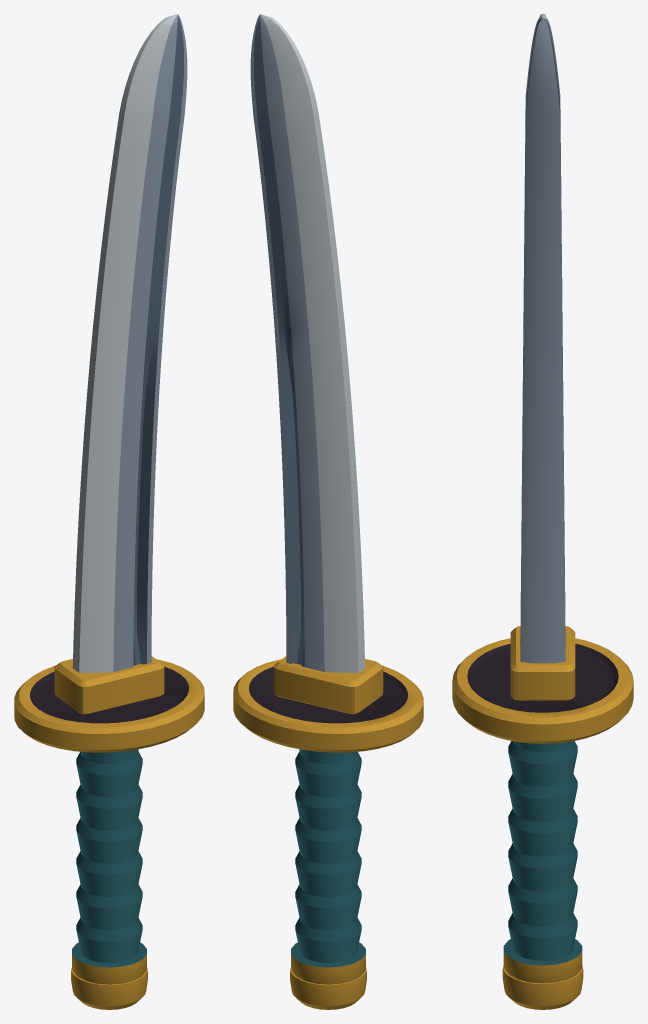
File: Katana_14.glb
3 renders of one model, left to right at view 1: azimuth 30°, elevation 25°; view 2: azimuth 150°, elevation 25°; view 3: azimuth 270°, elevation 25°, orthographic. The views are drawn at different scales.
Parts seen in each view (by area): view 1: Katana_14; view 2: Katana_14; view 3: Katana_14.
Boxes of the visible parts, x1,y1,x2,y2 form: Katana_14: (14, 14, 204, 1009); Katana_14: (233, 14, 423, 1009); Katana_14: (452, 14, 633, 1009).
Bounding box in the file's own units: 1.22 × 6.6 × 1.07.
